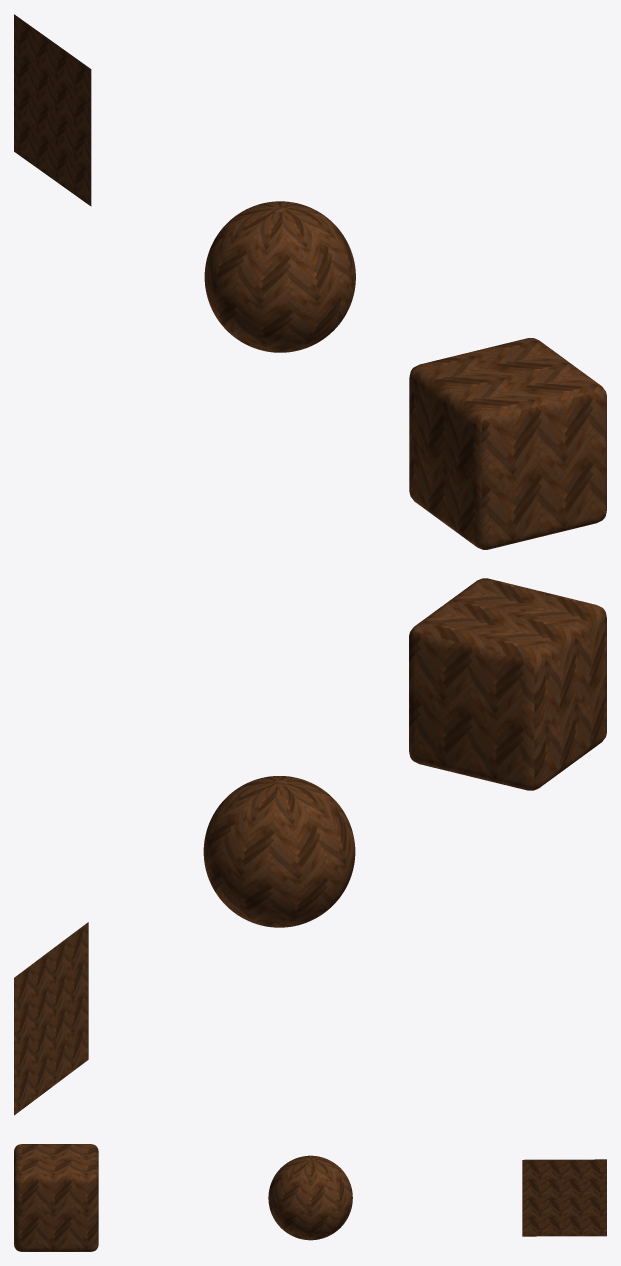
Rendered from parquet_board__tile_texture.glb.
3 renders of one model, top to bottom at view 1: azimuth 30°, elevation 25°; view 2: azimuth 150°, elevation 25°; view 3: azimuth 270°, elevation 25°, orthographic. The views are drawn at different scales.
Visible parts, largest first — view 1: Cube, Sphere, Plane; view 2: Cube, Sphere, Plane; view 3: Cube, Plane, Sphere.
Boxes of the visible parts, <box> form: Cube: <box>409,338,606,549</box>; Sphere: <box>204,201,355,352</box>; Plane: <box>14,14,91,206</box>; Cube: <box>409,578,606,790</box>; Sphere: <box>203,776,355,927</box>; Plane: <box>14,922,88,1115</box>; Cube: <box>14,1144,98,1251</box>; Plane: <box>522,1159,606,1236</box>; Sphere: <box>268,1155,352,1240</box>.
Bounding box in the file's own units: 2 × 2 × 14.01.
1 material, 1 textured.
